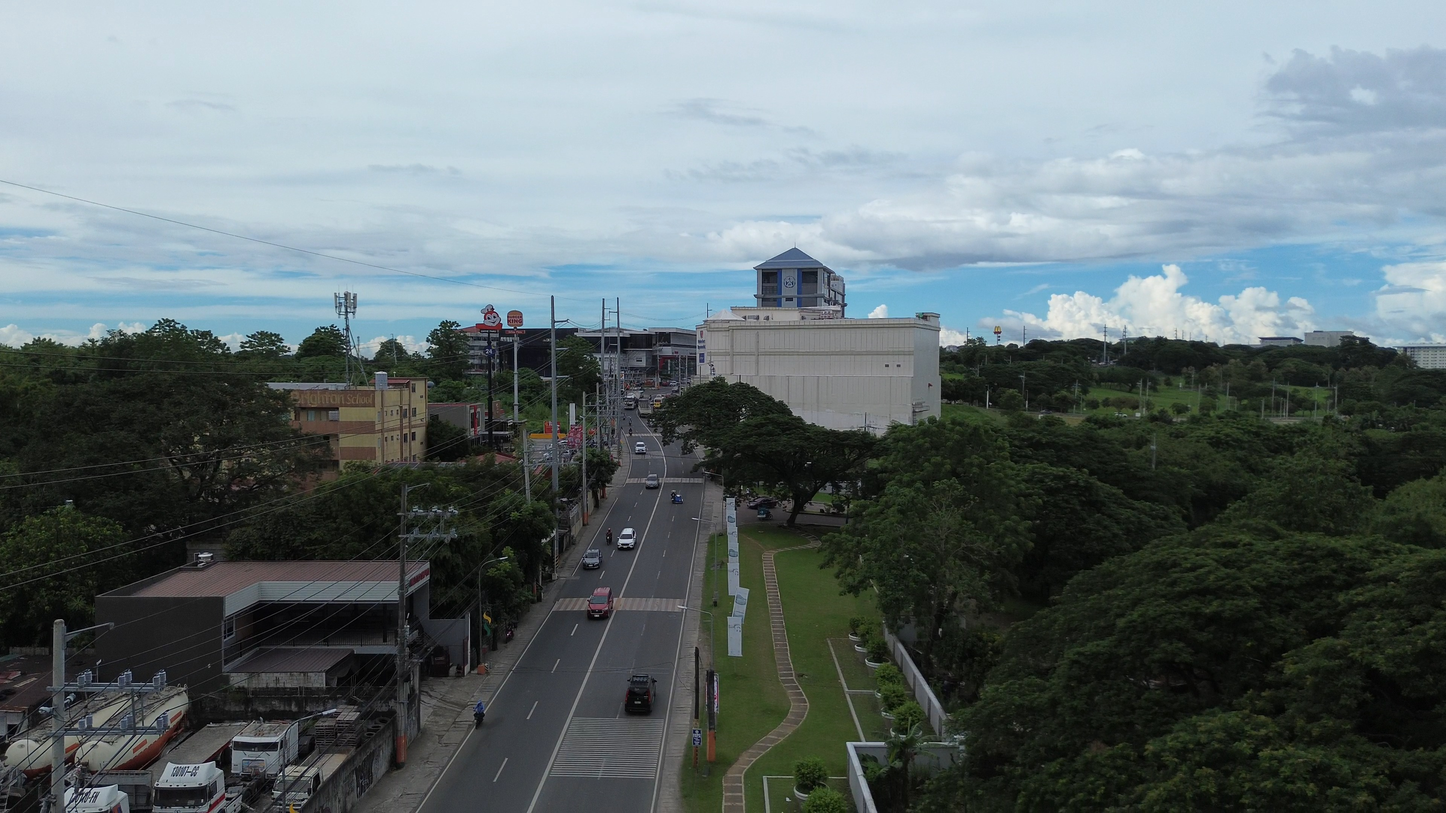vehicle: (76, 687, 189, 772), (153, 762, 241, 813), (231, 721, 299, 778), (273, 765, 320, 810), (65, 785, 129, 813), (625, 674, 656, 714), (588, 587, 613, 618), (581, 548, 602, 569), (616, 527, 636, 549), (746, 496, 778, 509), (645, 473, 660, 489), (757, 507, 771, 520), (633, 442, 647, 454), (624, 397, 636, 410), (652, 396, 663, 409), (671, 491, 682, 504)
